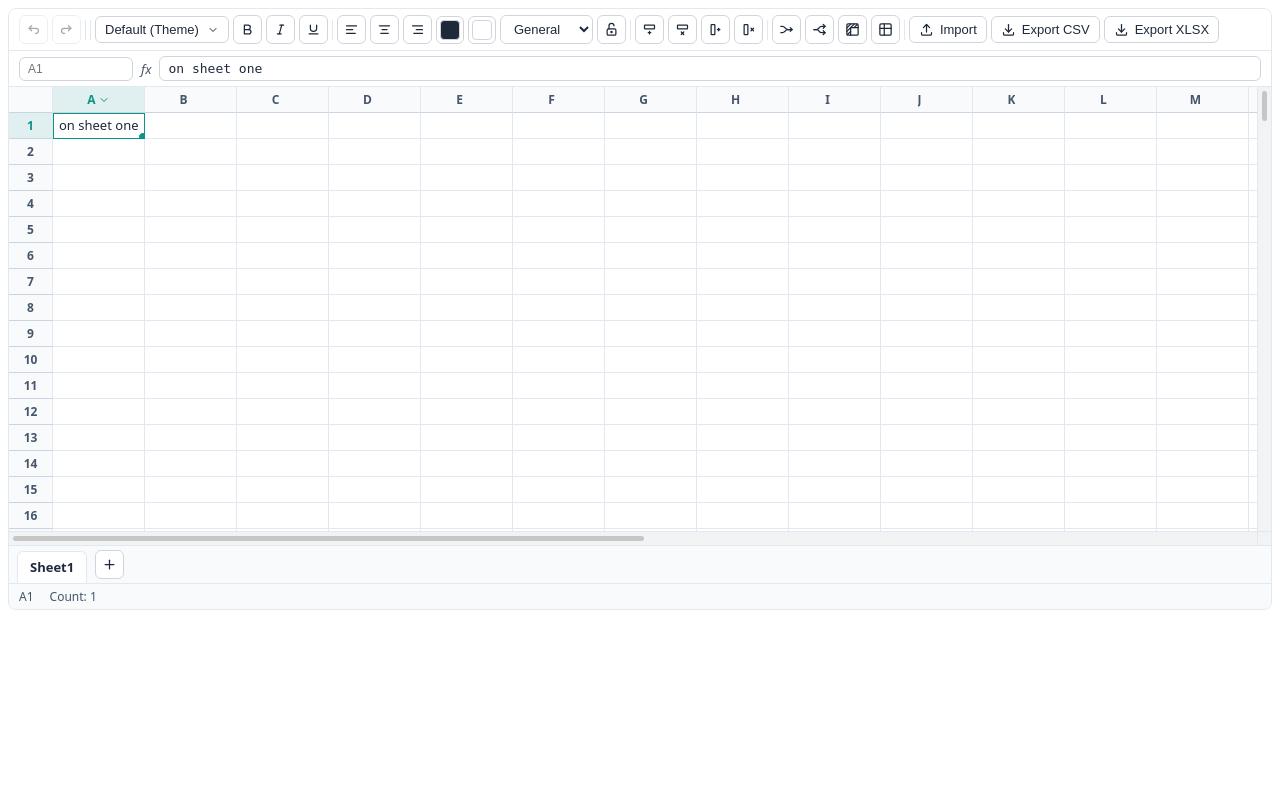
Test: structure › adding a sheet switches to it and clears the view
Click the button titled "Add sheet" at (110, 564), box x1=95 y1=550 x2=124 y2=579
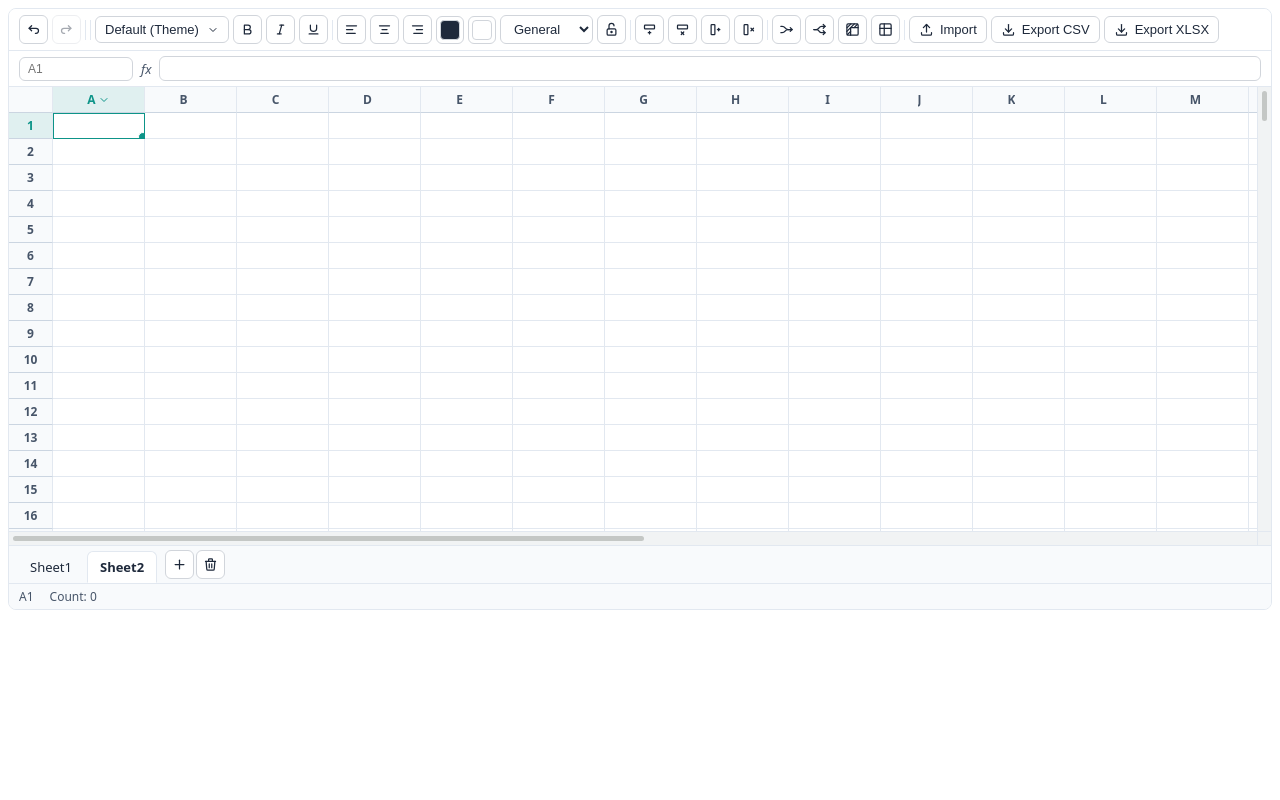
Expected: the text "Sheet2" is shown, x1=87 y1=551 x2=157 y2=583
